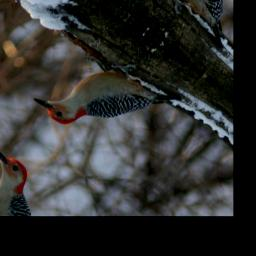Woodpecker: (29, 29, 181, 171)
